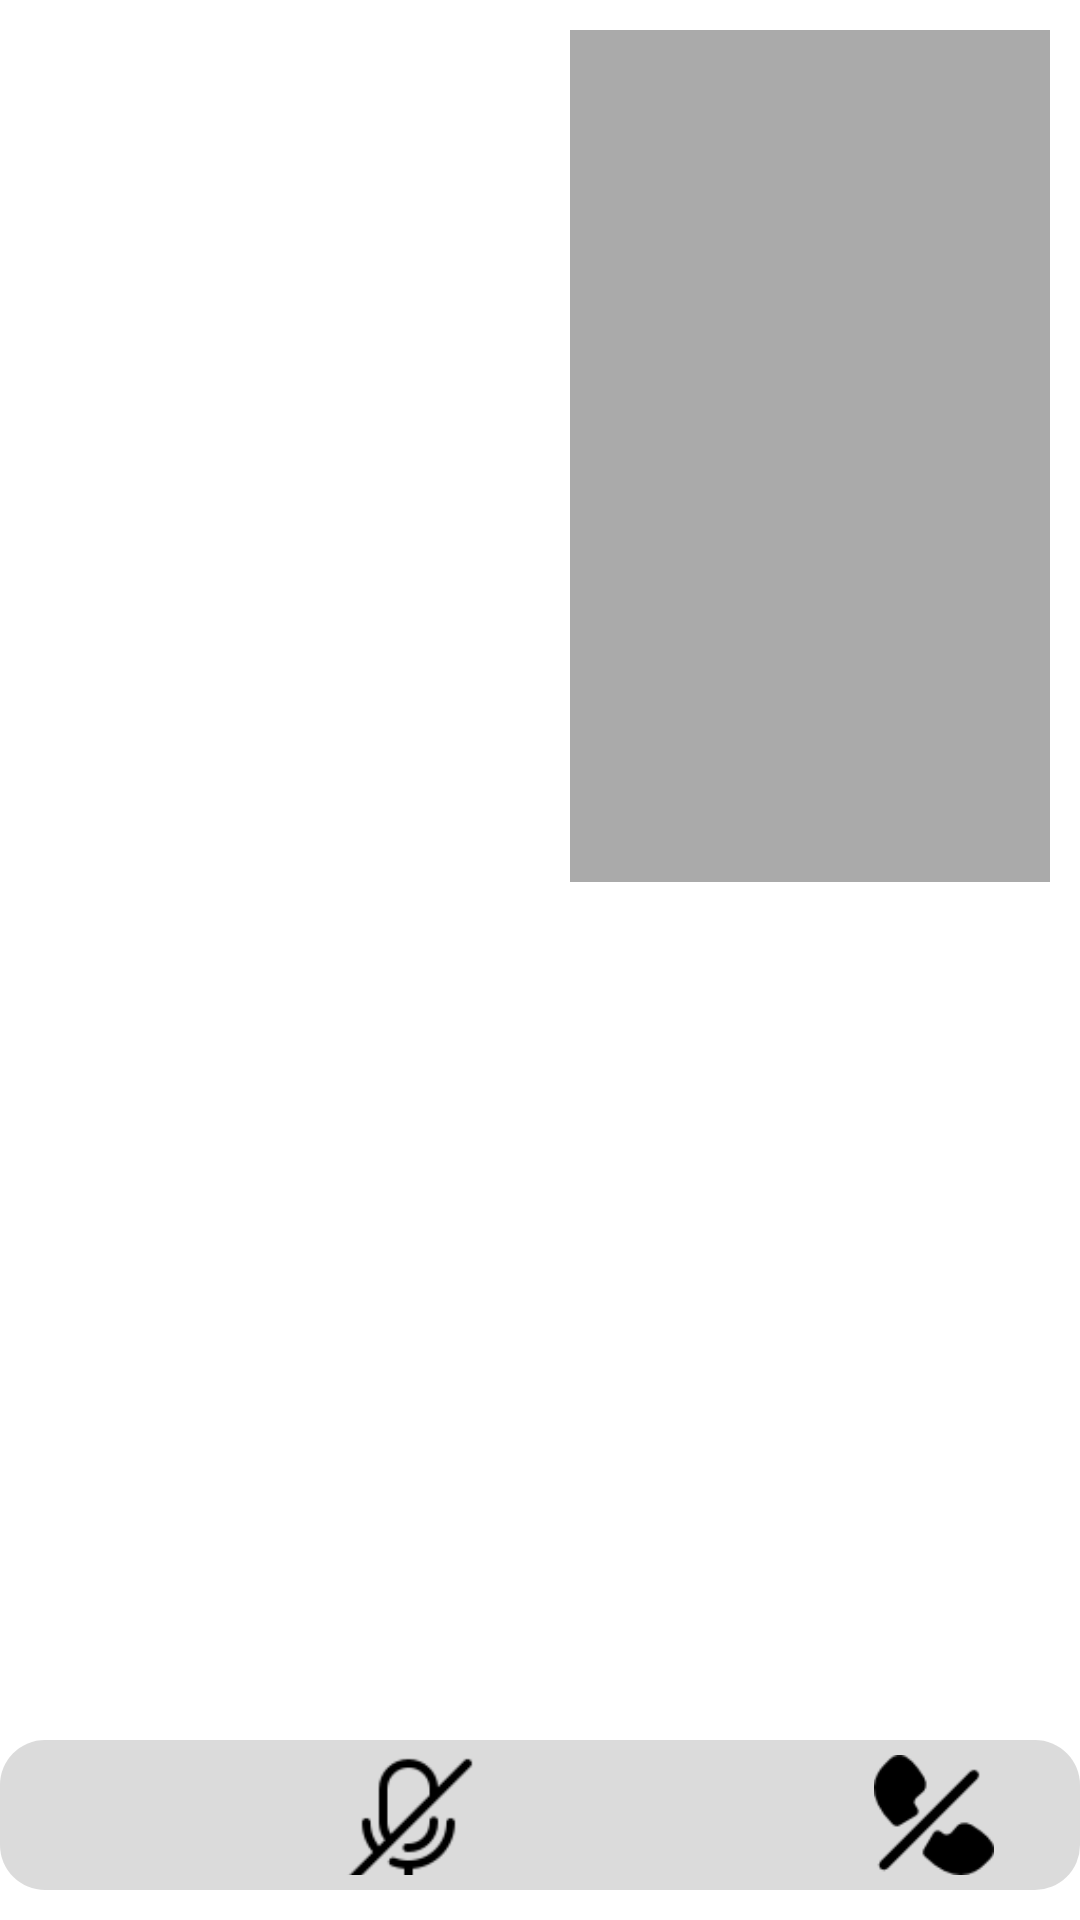

Named icons in this screenshot (1080px×1920px) and their centers, (x=x, y=y):
end call: (x=934, y=1815)
nomicrofone: (x=411, y=1816)
